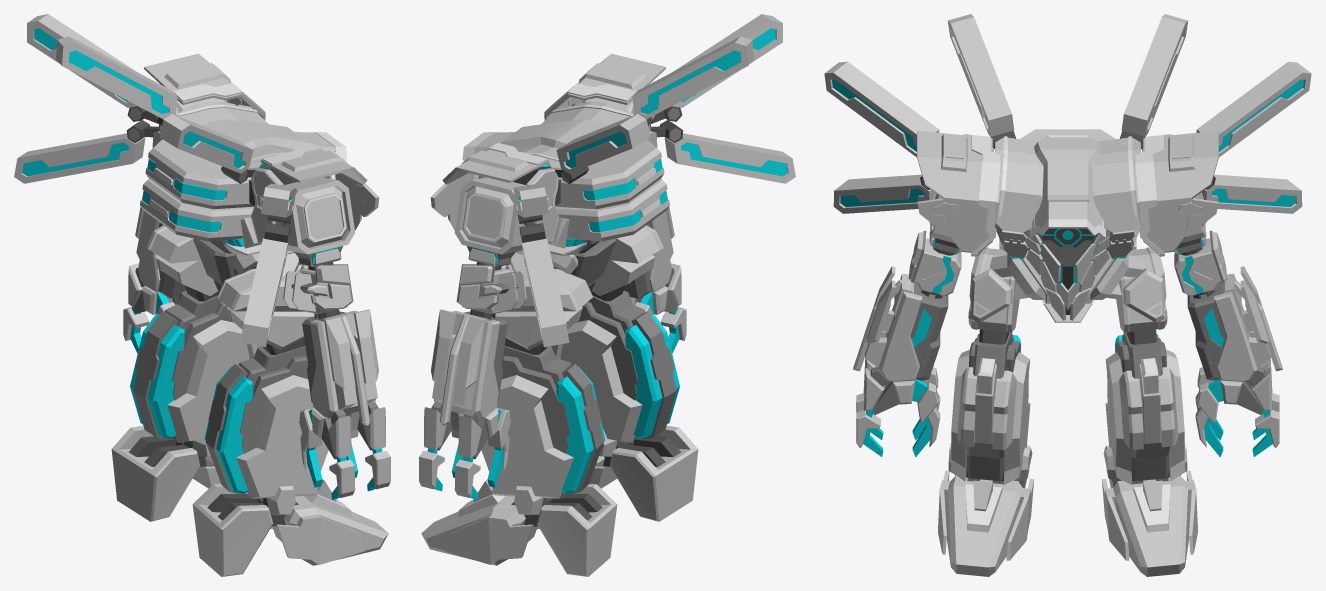
File: tian_idle.fbx
3 renders of one model, left to right at view 1: azimuth 30°, elevation 25°; view 2: azimuth 150°, elevation 25°; view 3: azimuth 270°, elevation 25°, orthographic. The views are drawn at different scales.
Parts seen in each view (by area): view 1: polySurface347; view 2: polySurface347; view 3: polySurface347.
Part boxes in pixels (x1,y1,x2,y2): polySurface347: (14,14,390,576); polySurface347: (419,14,795,576); polySurface347: (824,14,1311,576).
Size of the model in its own units: 10.96 by 22.25 by 21.16.
